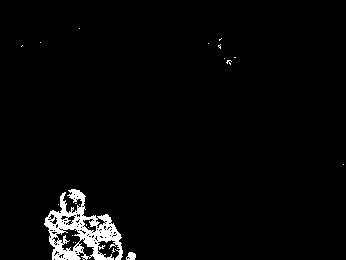person: (45, 187, 137, 260)
